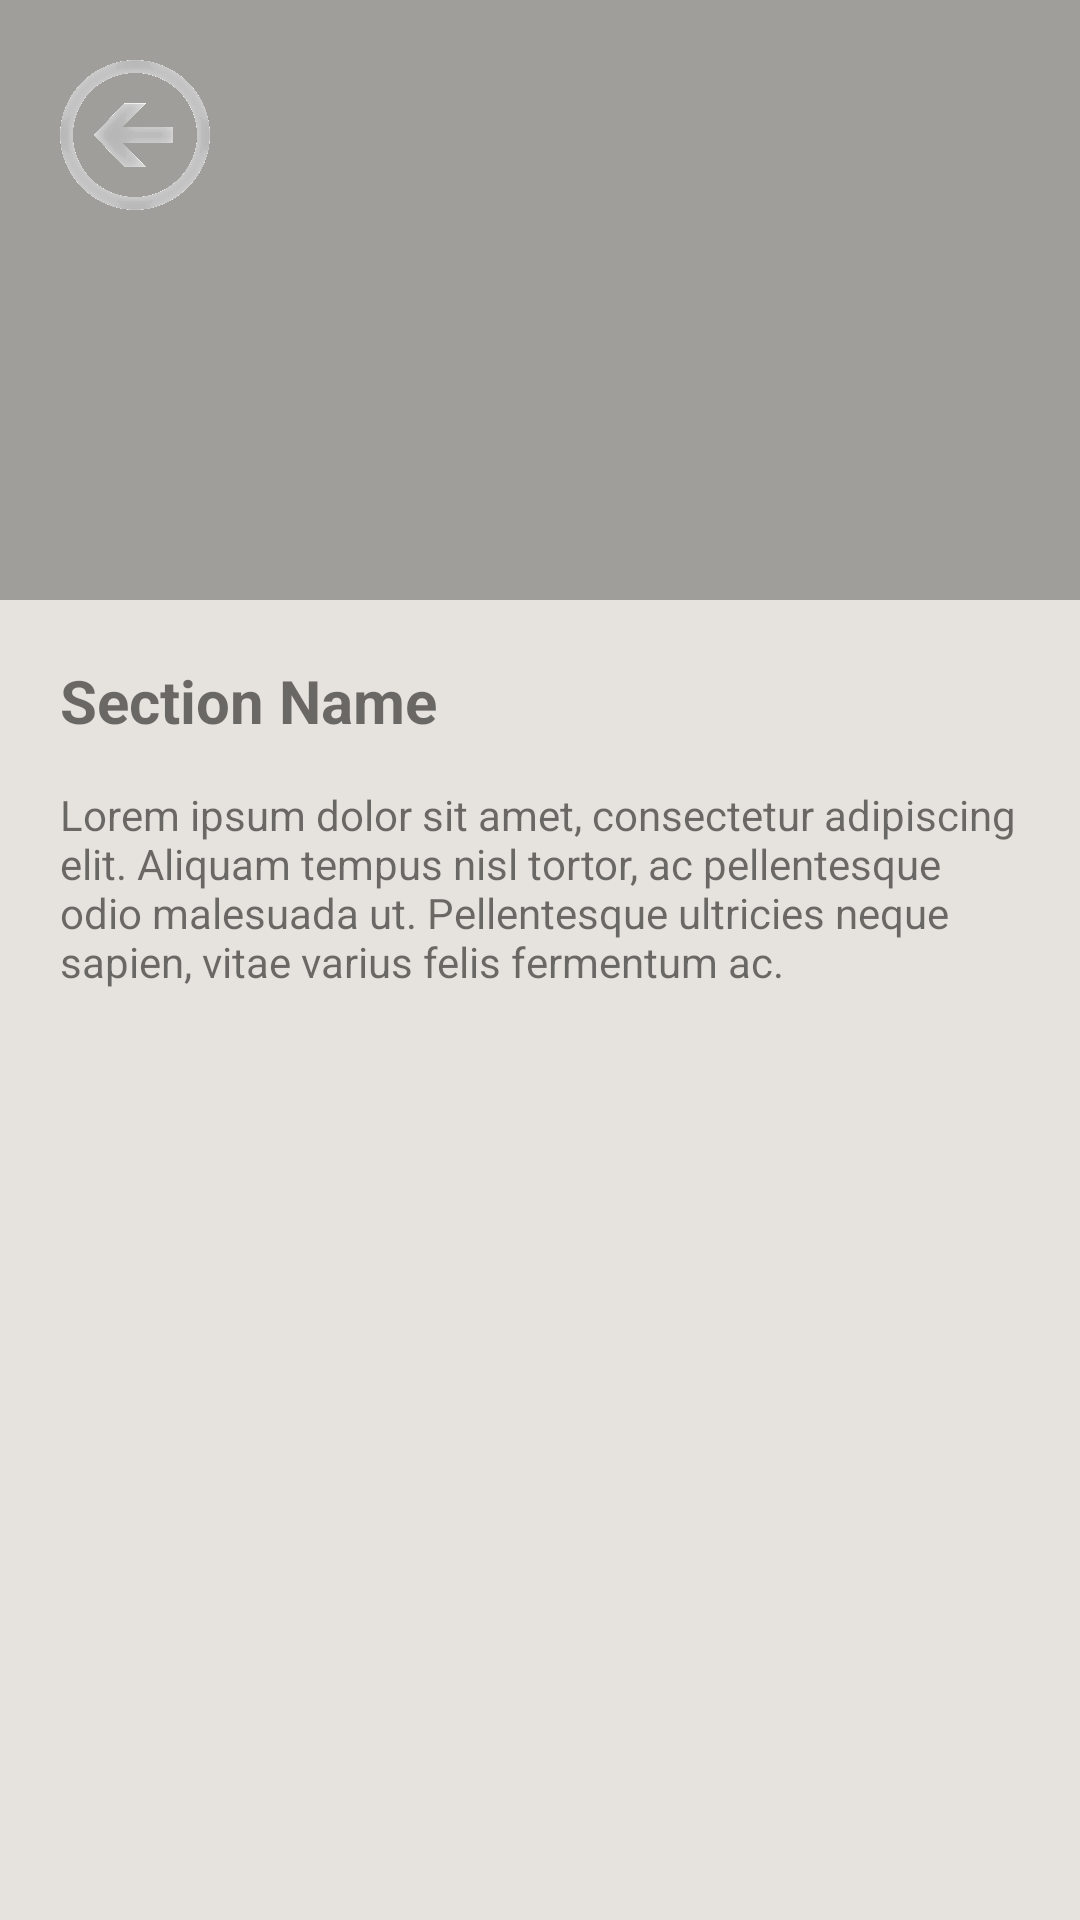

Icons on this 1080 × 1920 Android screen, each with the point to tap as (x,y):
back: (135,135)
